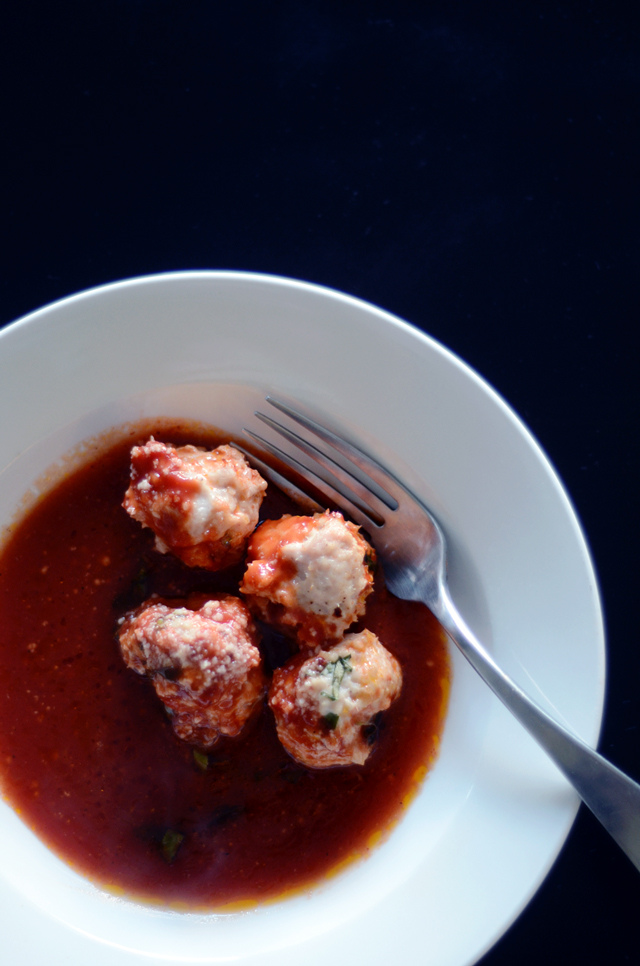meatballs: (119, 423, 244, 564), (122, 598, 251, 729), (269, 640, 401, 767), (256, 516, 375, 629)
